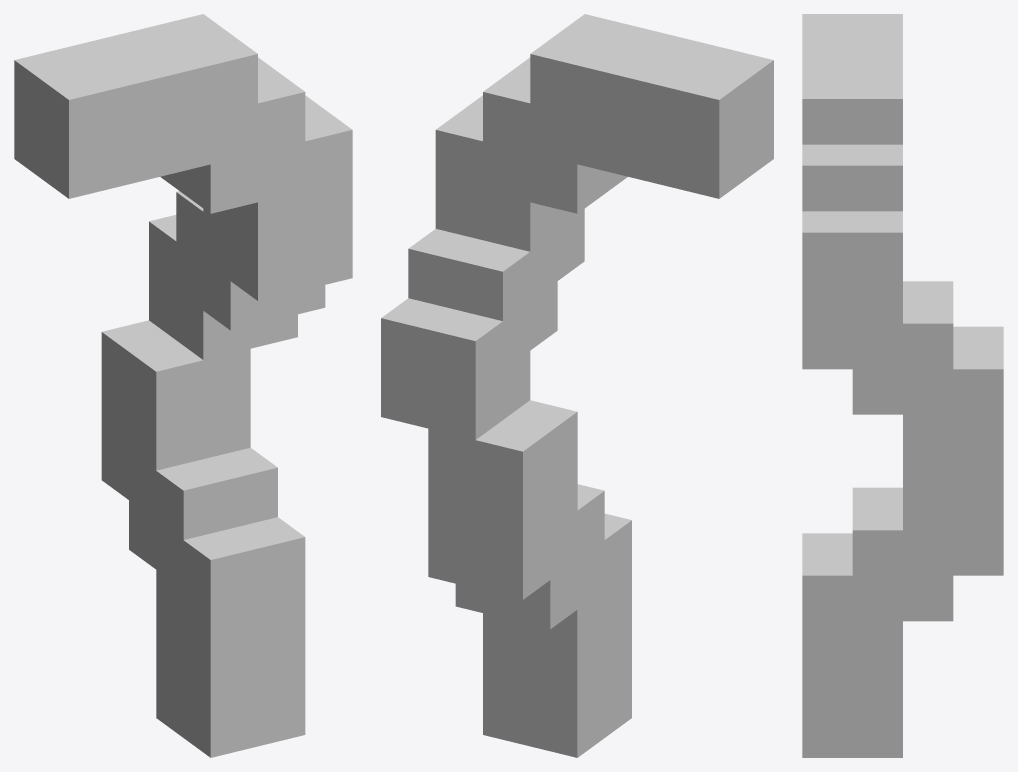
File: rambo_monkey_tail.obj
3 renders of one model, left to right at view 1: azimuth 30°, elevation 25°; view 2: azimuth 150°, elevation 25°; view 3: azimuth 270°, elevation 25°, orthographic. The views are drawn at different scales.
Size of the model in its own units: 6 by 14 by 4.
Materials: 1 (1 with a texture image).
